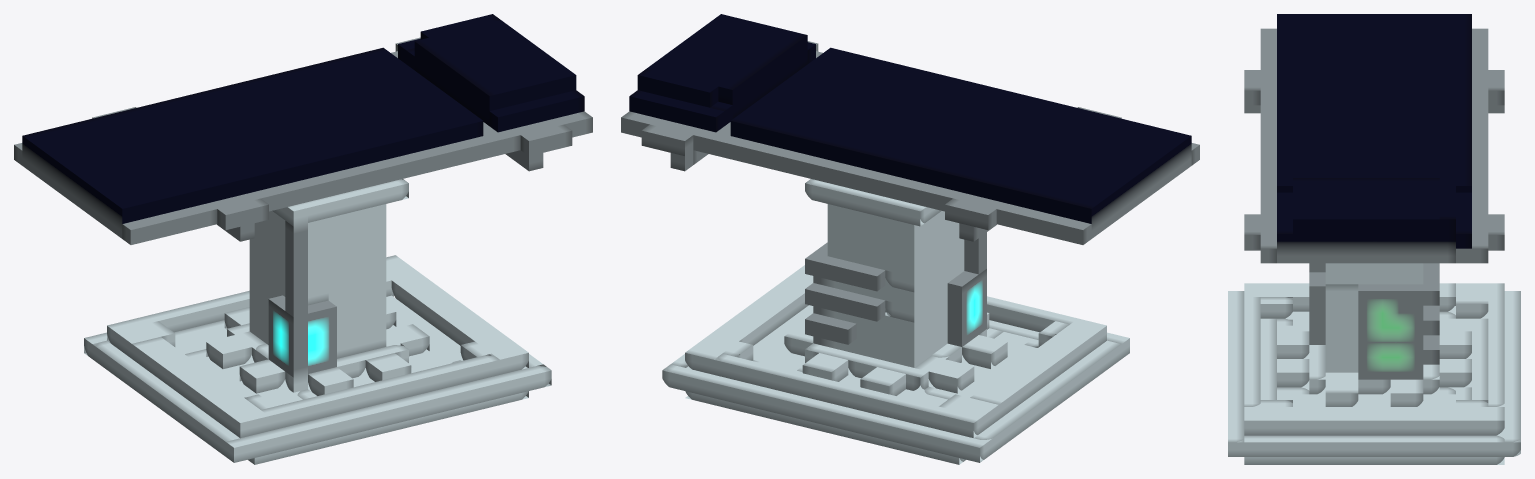
File: stul_operacja.dae
3 views of the same model, side by side, from view 1: azimuth 30°, elevation 25°; view 2: azimuth 150°, elevation 25°; view 3: azimuth 270°, elevation 25° (orthographic). The views are drawn at different scales.
Parts seen in each view (by area): view 1: Content; view 2: Content; view 3: Content.
Part boxes in pixels (box(x1,y1,x2,y2)): Content: box(14, 14, 592, 464); Content: box(621, 14, 1199, 464); Content: box(1228, 14, 1520, 464).
Size of the model in its own units: 32 by 19 by 18.
Materials: 1 (1 with a texture image).
